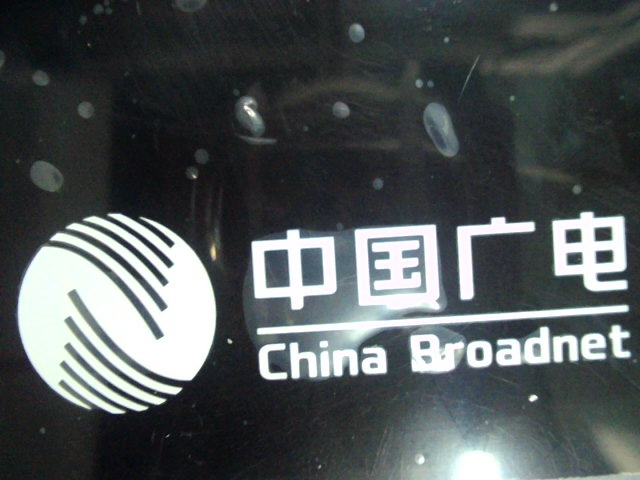AW_ChinaBroadNet: (11, 198, 632, 421)
